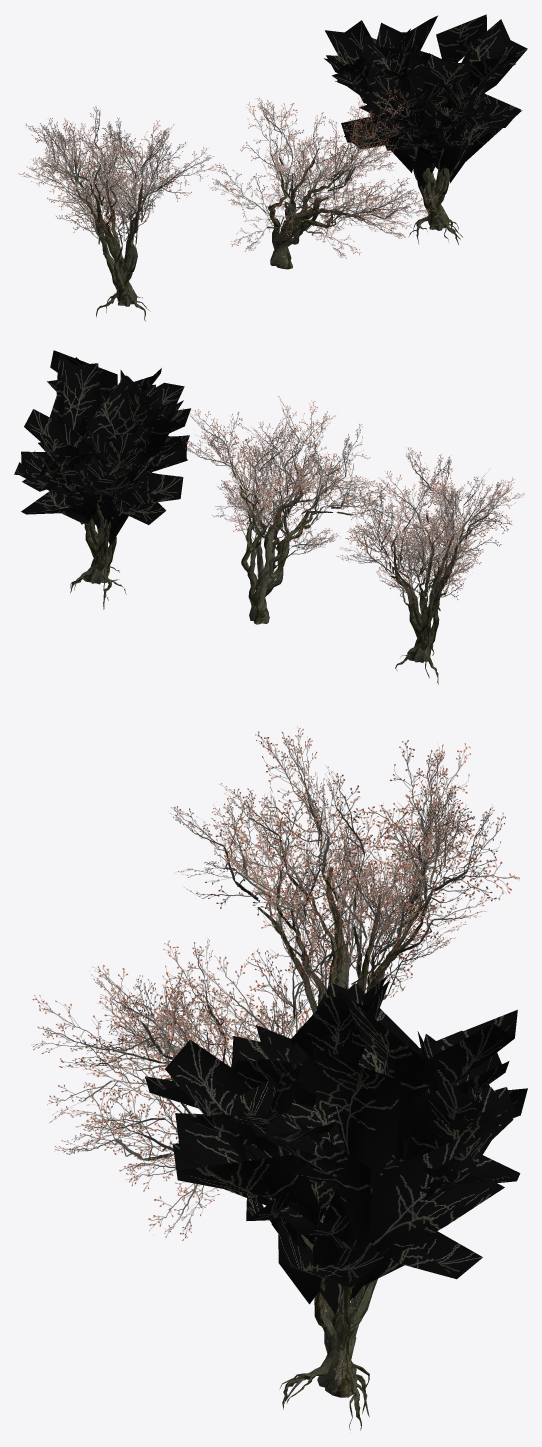
The model's file is oak_set.glb.
3 renders of one model, top to bottom at view 1: azimuth 30°, elevation 25°; view 2: azimuth 150°, elevation 25°; view 3: azimuth 270°, elevation 25°, orthographic. The views are drawn at different scales.
Parts seen in each view (by area): view 1: Object_6, Object_2, Object_4, Object_5, Object_3; view 2: Object_6, Object_2, Object_5, Object_4, Object_3; view 3: Object_2, Object_6, Object_3, Object_4.
Part boxes in pixels (x1,y1,x2,y2): Object_6: (18, 89, 438, 262); Object_2: (324, 14, 527, 189); Object_4: (76, 180, 150, 320); Object_5: (268, 159, 364, 269); Object_3: (408, 133, 462, 244); Object_6: (183, 396, 524, 622); Object_2: (14, 350, 190, 545); Object_5: (240, 485, 332, 624); Object_4: (393, 530, 457, 684); Object_3: (70, 485, 126, 609); Object_2: (145, 976, 527, 1314); Object_6: (31, 726, 519, 1240); Object_3: (280, 1204, 377, 1430); Object_4: (258, 867, 424, 1013).
Bounding box in the file's own units: 60.94 × 27.78 × 31.31.
4 materials, 4 textured.
